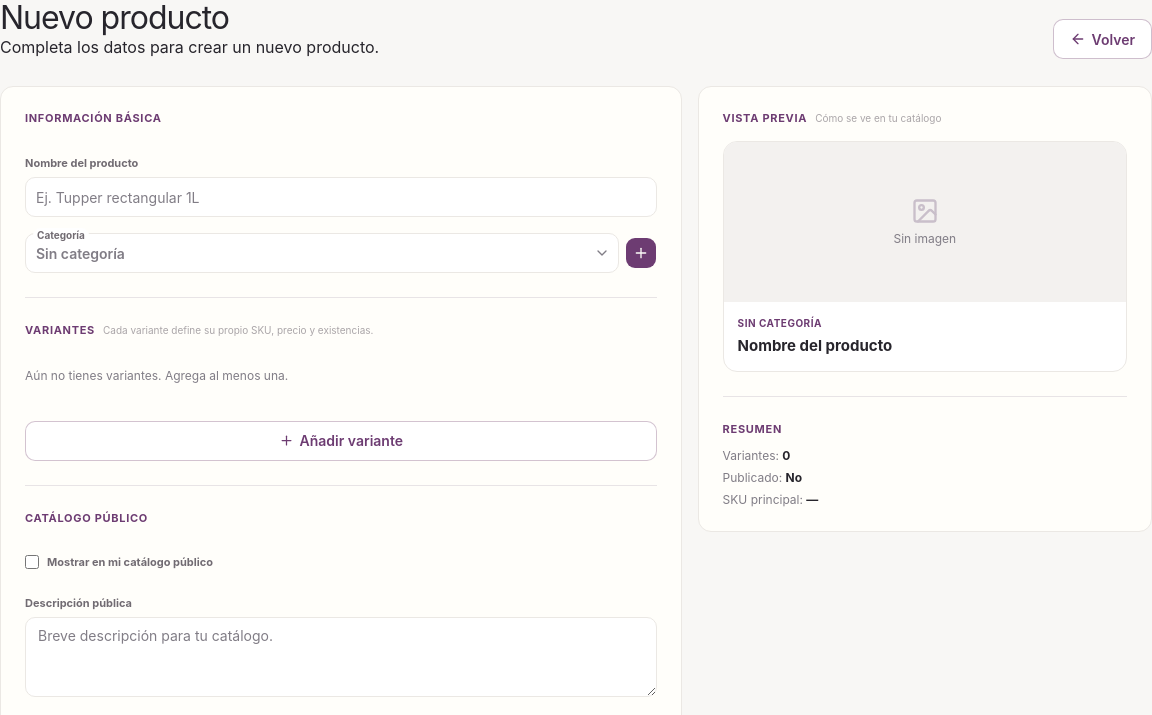
ProductCreatePage › Modal de variante › debería cerrar modal al cancelar
Step 1. Click the button "Añadir variante" → (341, 441), box [25,421,657,461]
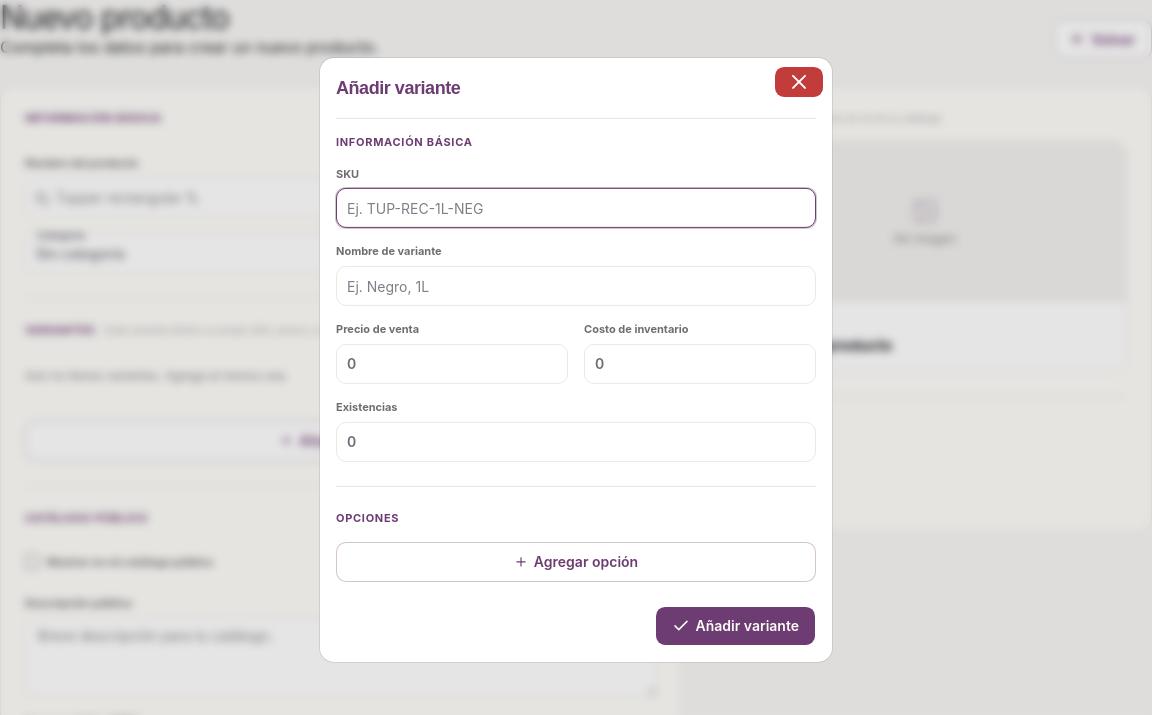
Step 2. Click the button named "Cerrar" → (799, 82), box [774,66,824,98]
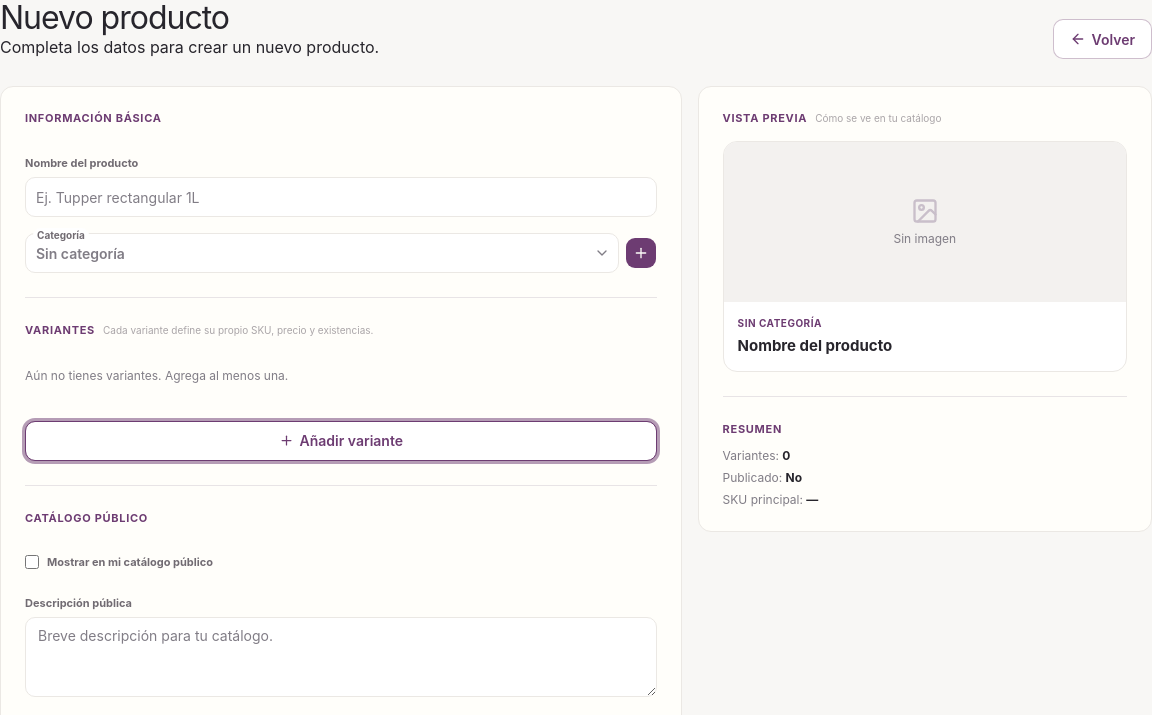
expect the dialog is gone: met
